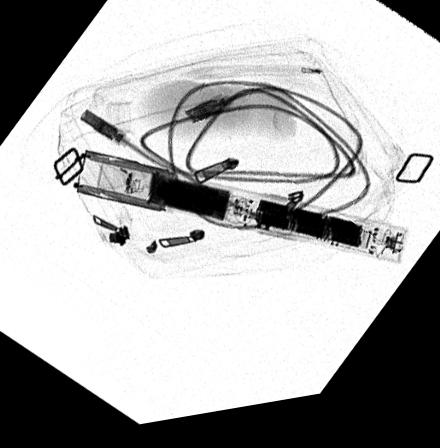Baton: (72, 150, 407, 278)
